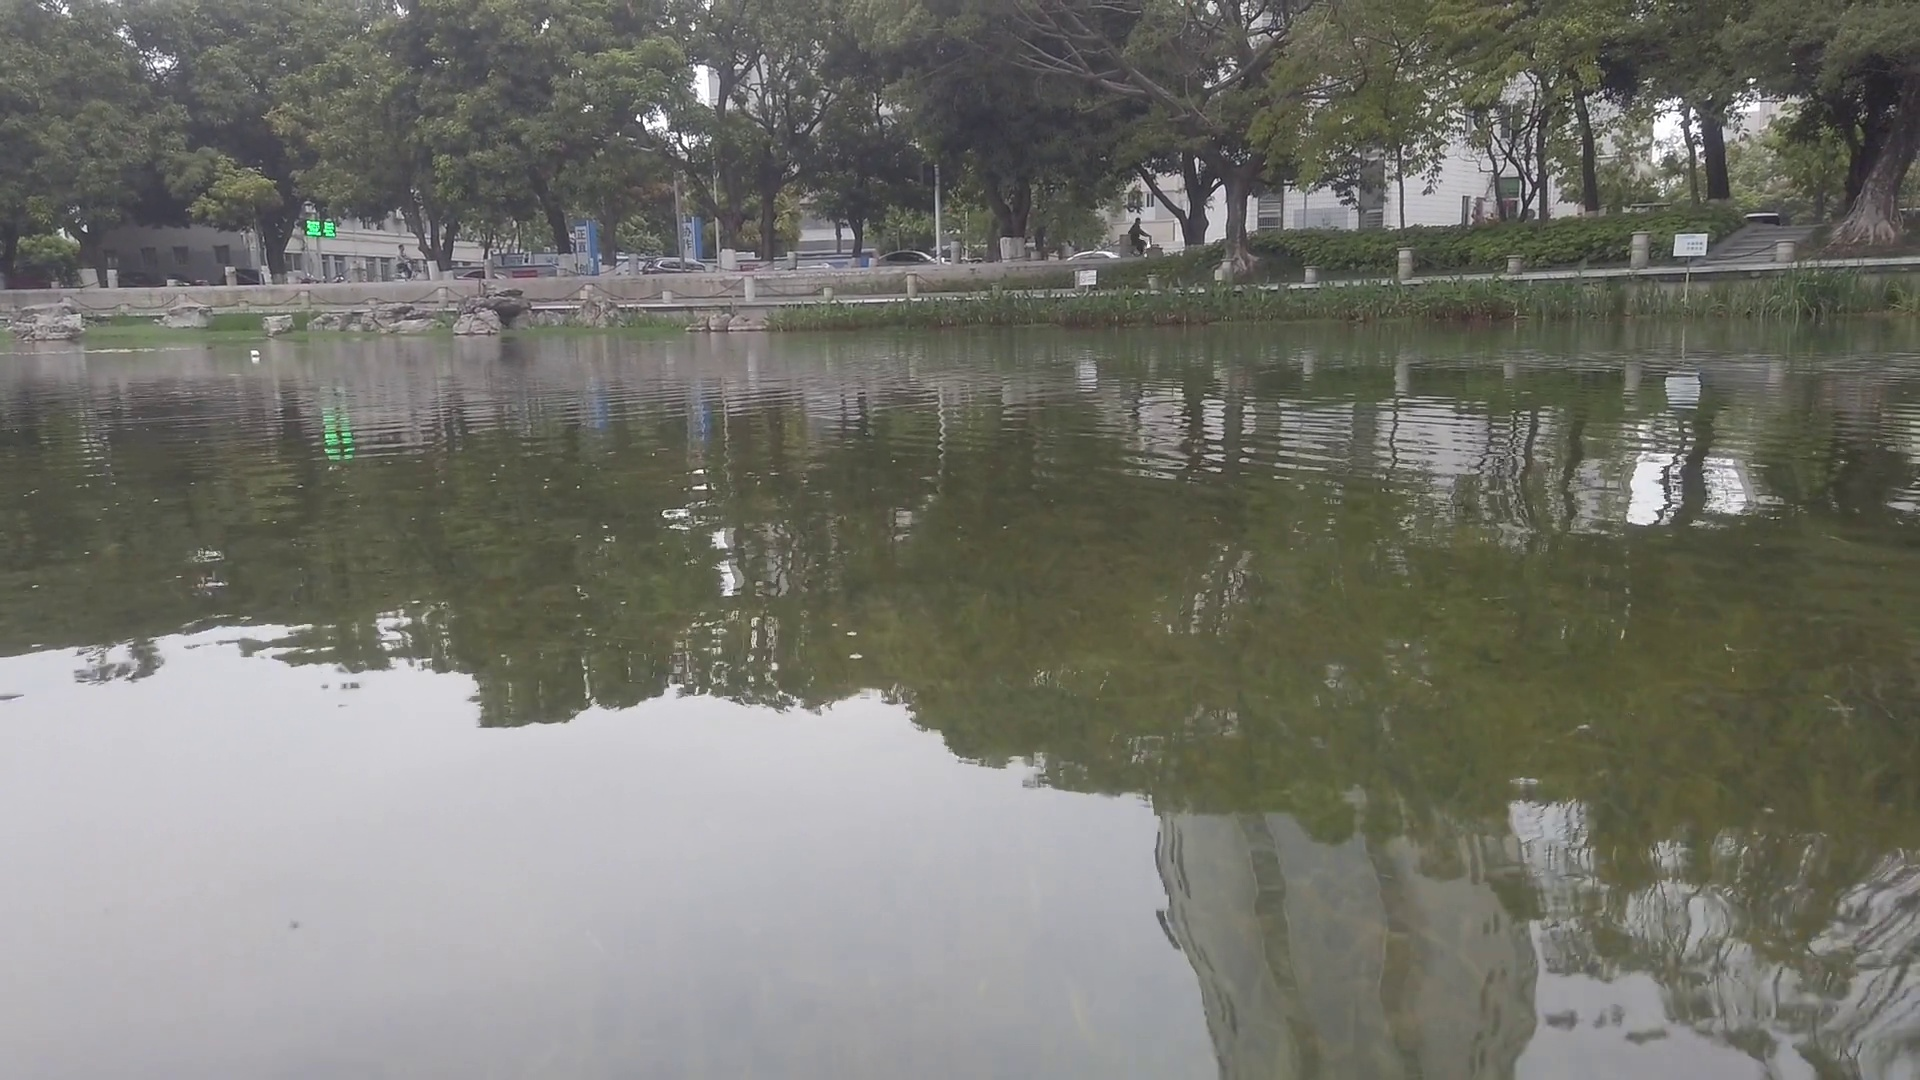carton: (248, 349, 261, 359)
